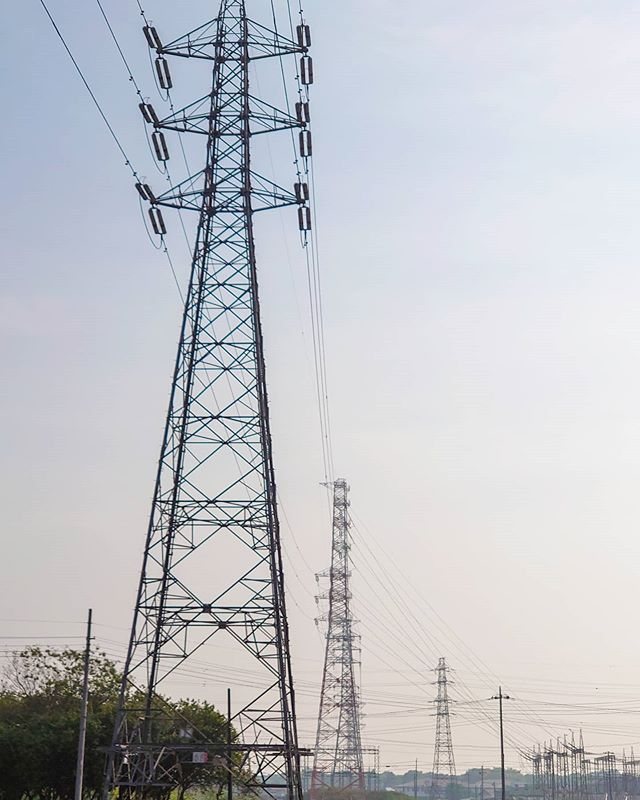power pole: (89, 1, 321, 800), (304, 478, 373, 800), (411, 654, 464, 799)
sky: (1, 1, 611, 737)
tree: (8, 685, 239, 800)
